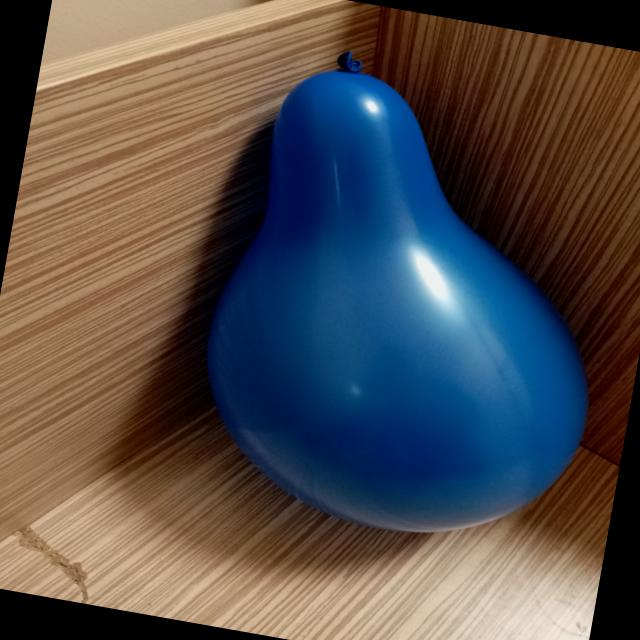balloon: (207, 51, 587, 531)
